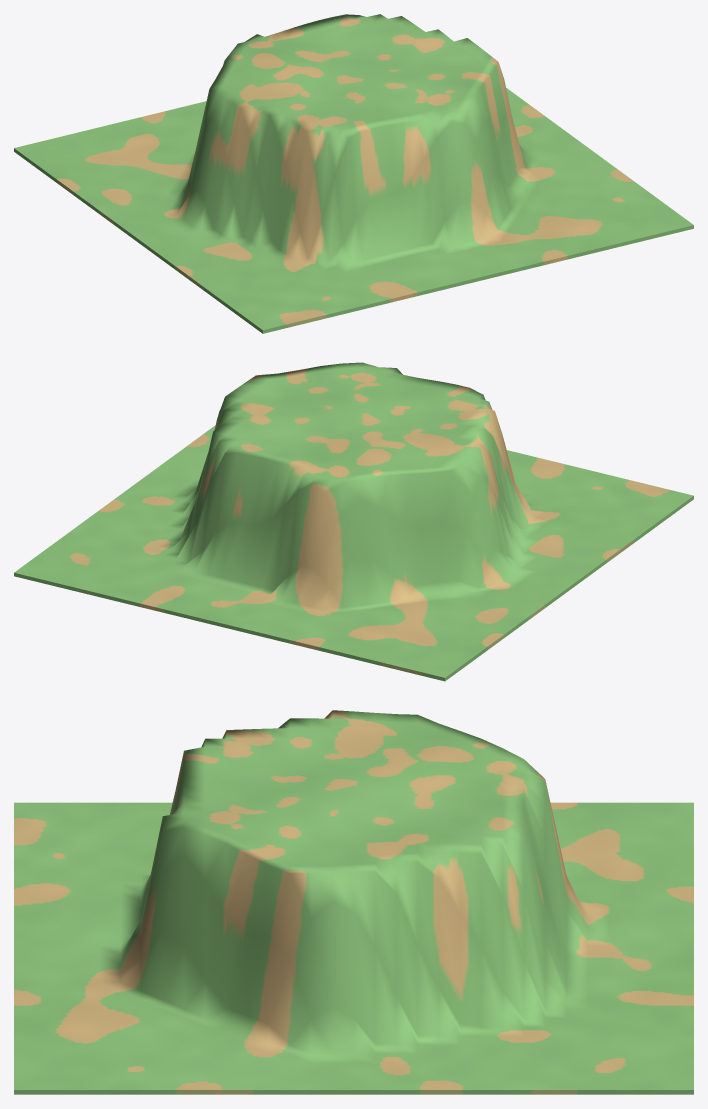
The model's file is Grass_Hills_12.obj.
3 renders of one model, top to bottom at view 1: azimuth 30°, elevation 25°; view 2: azimuth 150°, elevation 25°; view 3: azimuth 270°, elevation 25°, orthographic. The views are drawn at different scales.
Size of the model in its own units: 10 by 2.62 by 10.
Materials: 1 (1 with a texture image).
